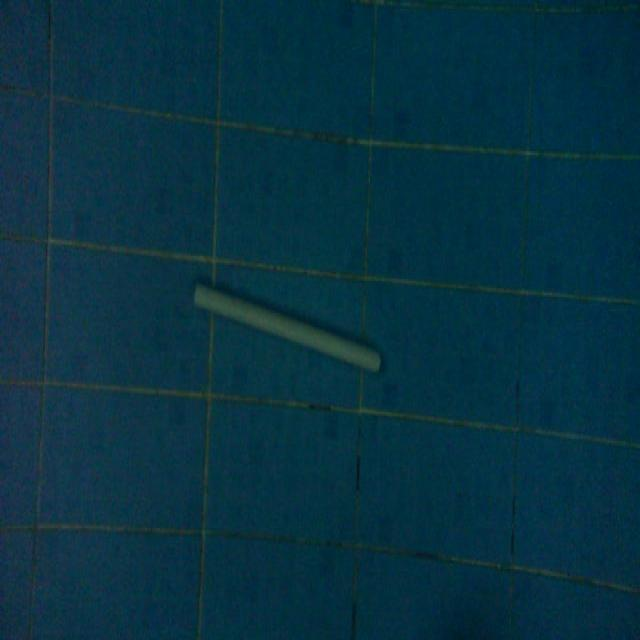Cube: (191, 276, 383, 378)
